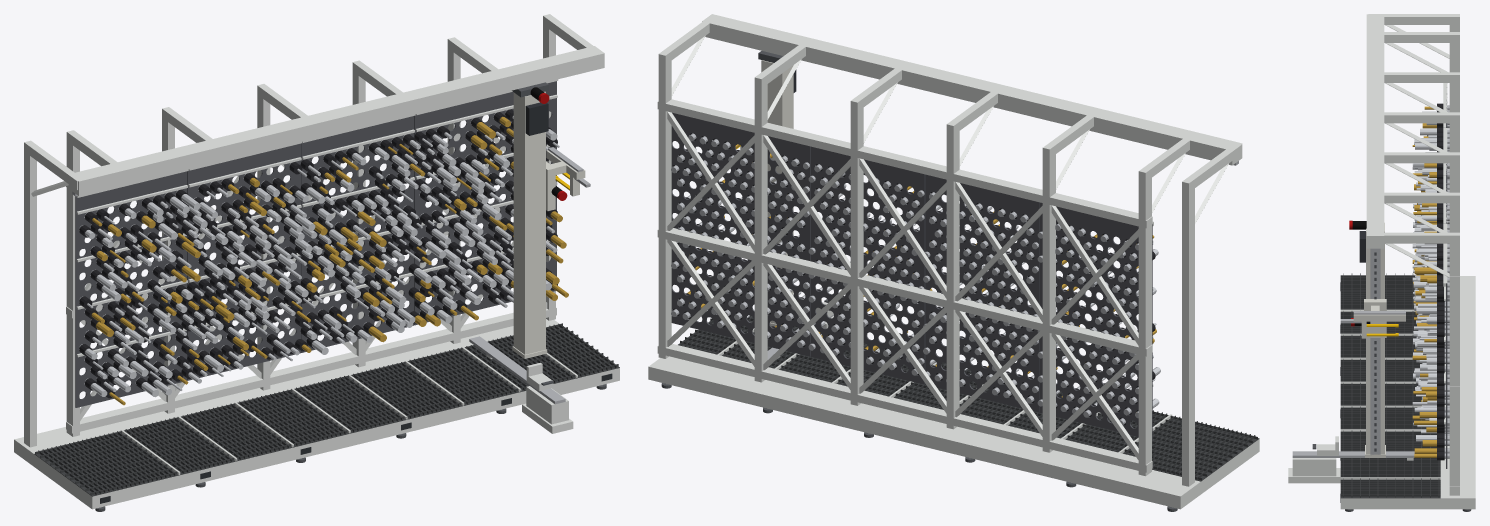
File: tool_wall_magazine_4mod_white.glb
The picture shows the model from 3 angles, left to right: view 1: azimuth 30°, elevation 25°; view 2: azimuth 150°, elevation 25°; view 3: azimuth 270°, elevation 25°; orthographic projection. The views are drawn at different scales.
Parts seen in each view (by area): view 1: twm_frame__truss_white, twm_tools__holder, twm_frame__anthracite_lt, twm_base__grating, twm_tools__tool_bright, twm_base__truss_white, twm_tools__tool_gold, mag_loader__struct_grey, twm_load_station__truss_white, twm_tools__steel, twm_load_station__steel, mag_loader_z__struct_grey (+1 smaller); view 2: twm_frame__truss_white, twm_frame__anthracite_lt, twm_base__truss_white, twm_tools__steel, twm_base__grating, twm_tools__holder, mag_loader__struct_grey, twm_tools__tool_bright; view 3: twm_frame__truss_white, twm_base__grating, twm_base__truss_white, twm_tools__tool_bright, twm_tools__tool_gold, twm_tools__holder, mag_loader__struct_grey, mag_loader__steel, twm_load_station__truss_white, twm_tools__steel, mag_loader_z__struct_grey, twm_load_station__steel (+4 smaller).
Boxes of the visible parts, x1,y1,x2,y2 form: twm_frame__truss_white: (24, 14, 604, 447); twm_tools__holder: (79, 109, 557, 398); twm_frame__anthracite_lt: (75, 81, 556, 407); twm_base__grating: (34, 323, 619, 496); twm_tools__tool_bright: (85, 116, 559, 397); twm_base__truss_white: (14, 319, 619, 509); twm_tools__tool_gold: (91, 116, 568, 405); mag_loader__struct_grey: (512, 91, 547, 358); twm_load_station__truss_white: (486, 354, 573, 433); twm_tools__steel: (79, 110, 511, 383); twm_load_station__steel: (469, 336, 565, 404); mag_loader_z__struct_grey: (546, 150, 585, 210); twm_frame__truss_white: (657, 14, 1242, 486); twm_frame__anthracite_lt: (671, 112, 1152, 439); twm_base__truss_white: (648, 328, 1259, 509); twm_tools__steel: (671, 133, 1138, 425); twm_base__grating: (678, 315, 1259, 481); twm_tools__holder: (672, 133, 1155, 425); mag_loader__struct_grey: (761, 60, 793, 326); twm_tools__tool_bright: (687, 148, 1160, 408); twm_frame__truss_white: (1366, 14, 1459, 495); twm_base__grating: (1340, 273, 1440, 498); twm_base__truss_white: (1340, 276, 1475, 509); twm_tools__tool_bright: (1412, 111, 1436, 441); twm_tools__tool_gold: (1412, 106, 1436, 457); twm_tools__holder: (1437, 103, 1444, 460); mag_loader__struct_grey: (1365, 222, 1385, 457); mag_loader__steel: (1370, 248, 1380, 455); twm_load_station__truss_white: (1288, 458, 1413, 483); twm_tools__steel: (1444, 105, 1449, 458); mag_loader_z__struct_grey: (1353, 299, 1405, 337); twm_load_station__steel: (1292, 451, 1414, 457).
Size of the model in its own units: 6.04 by 3.54 by 2.15.
